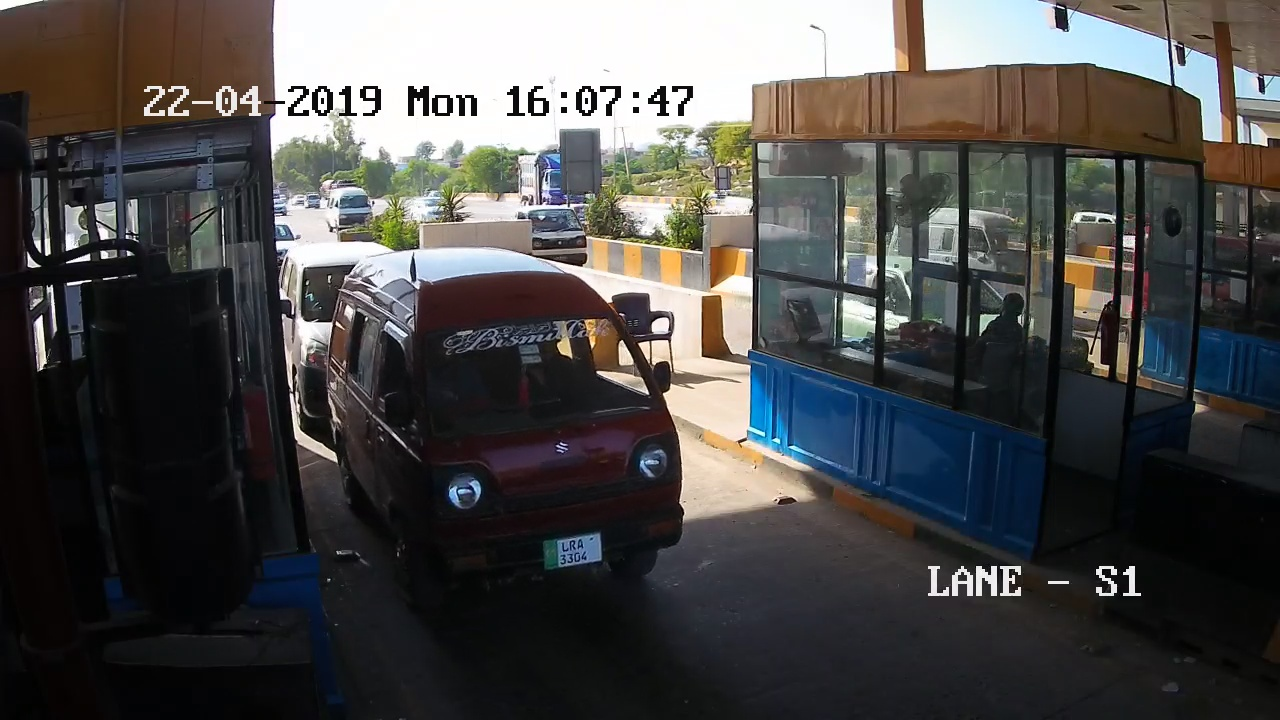Number Plate (Car): (545, 533, 602, 567)
